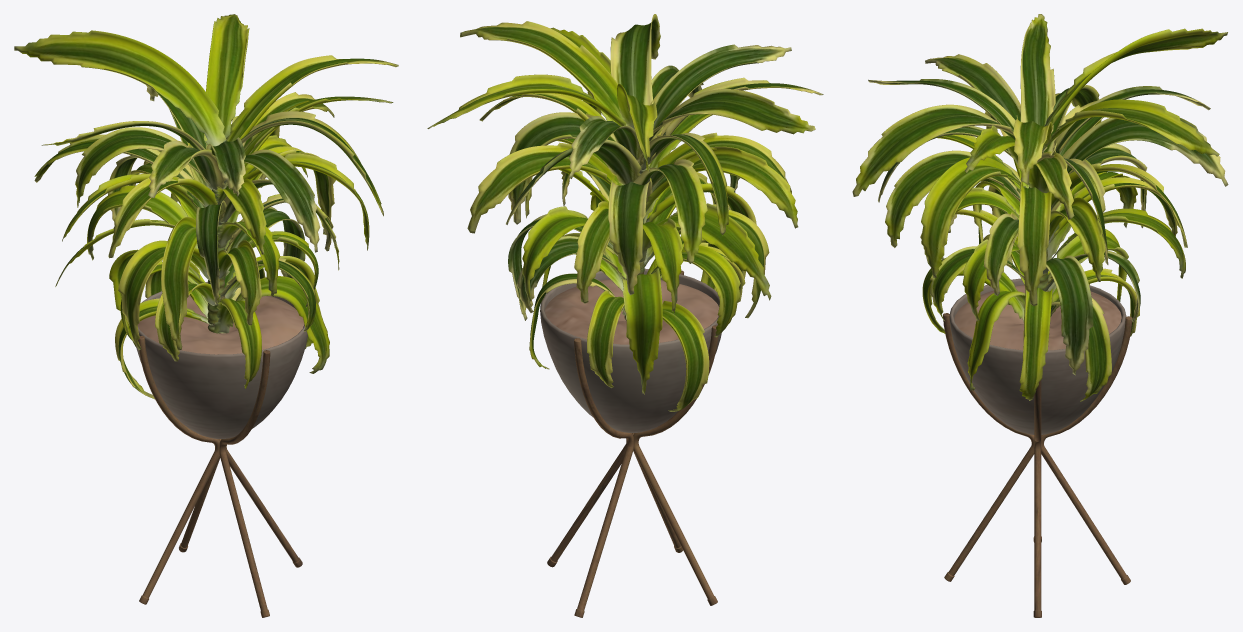
The model's file is Spider_Plant_Pot.glb.
3 renders of one model, left to right at view 1: azimuth 30°, elevation 25°; view 2: azimuth 150°, elevation 25°; view 3: azimuth 270°, elevation 25°, orthographic. The views are drawn at different scales.
Parts seen in each view (by area): view 1: Dracaena Warneckii Lemon Lime Cane 02.001, Dracaena Warneckii Lemon Lime Cane 02; view 2: Dracaena Warneckii Lemon Lime Cane 02.001, Dracaena Warneckii Lemon Lime Cane 02; view 3: Dracaena Warneckii Lemon Lime Cane 02.001, Dracaena Warneckii Lemon Lime Cane 02.
Part boxes in pixels (<box>): Dracaena Warneckii Lemon Lime Cane 02.001: <box>14,14,398,399</box>; Dracaena Warneckii Lemon Lime Cane 02: <box>136,189,307,617</box>; Dracaena Warneckii Lemon Lime Cane 02.001: <box>427,14,823,411</box>; Dracaena Warneckii Lemon Lime Cane 02: <box>540,218,721,617</box>; Dracaena Warneckii Lemon Lime Cane 02.001: <box>852,14,1228,401</box>; Dracaena Warneckii Lemon Lime Cane 02: <box>943,183,1132,617</box>.
Size of the model in its own units: 0.8226 by 1.18 by 0.7703.
Materials: 5 (5 with a texture image).
